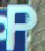Parking: (6, 2, 37, 50)
